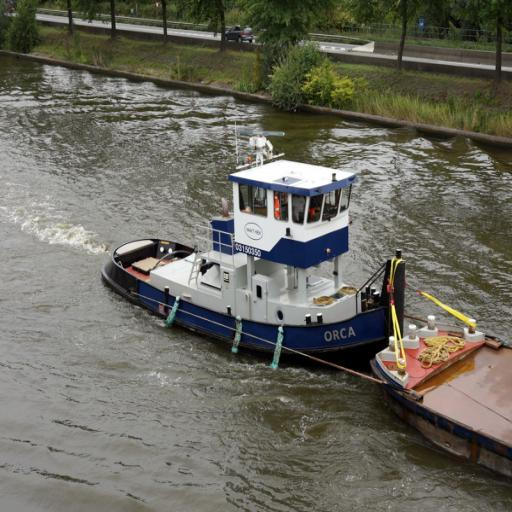tugboat: (98, 116, 412, 389)
